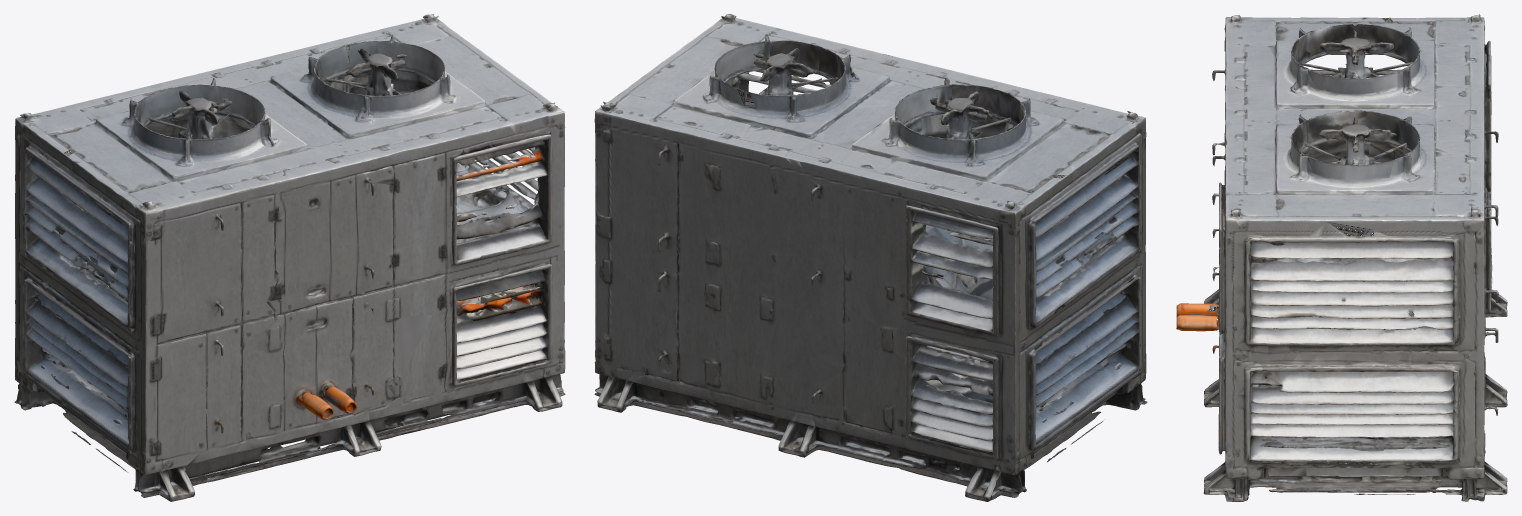
The model's file is Props_HVACUnit.fbx.
The picture shows the model from 3 angles, left to right: view 1: azimuth 30°, elevation 25°; view 2: azimuth 150°, elevation 25°; view 3: azimuth 270°, elevation 25°; orthographic projection.
Visible parts, largest first — view 1: Props_HVACUnit; view 2: Props_HVACUnit; view 3: Props_HVACUnit.
Part boxes in pixels (x1,y1,x2,y2): Props_HVACUnit: (14,14,565,501); Props_HVACUnit: (594,14,1147,501); Props_HVACUnit: (1176,14,1507,501).
Size of the model in its own units: 99.59 by 70.32 by 66.96.
